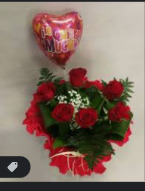RedRose: (68, 67, 89, 89), (77, 107, 98, 129)
